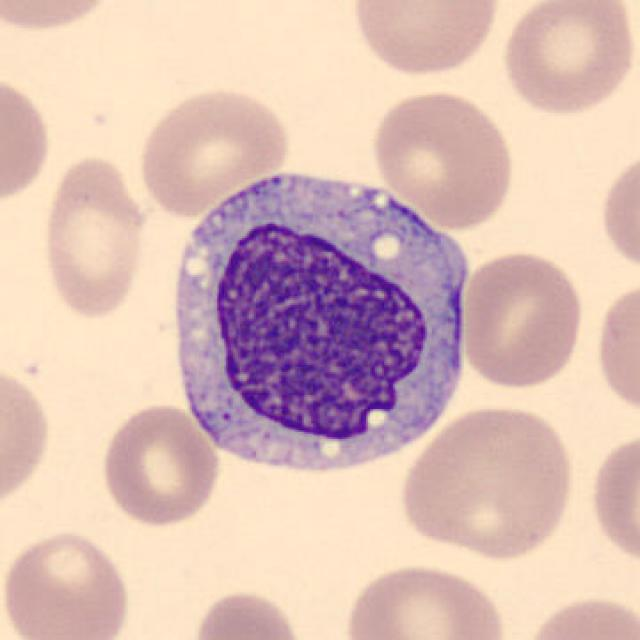Monocyte: (155, 155, 480, 485)
RBC: (396, 400, 580, 562), (368, 86, 517, 231), (135, 83, 293, 217), (37, 150, 151, 323), (455, 245, 587, 391), (496, 0, 638, 118), (96, 400, 222, 529), (0, 525, 135, 640), (338, 559, 512, 640), (347, 0, 505, 79), (0, 359, 57, 516), (587, 423, 638, 577), (0, 69, 55, 210), (592, 272, 638, 423), (188, 585, 308, 640), (519, 590, 638, 640), (596, 144, 638, 280), (0, 0, 123, 37)
